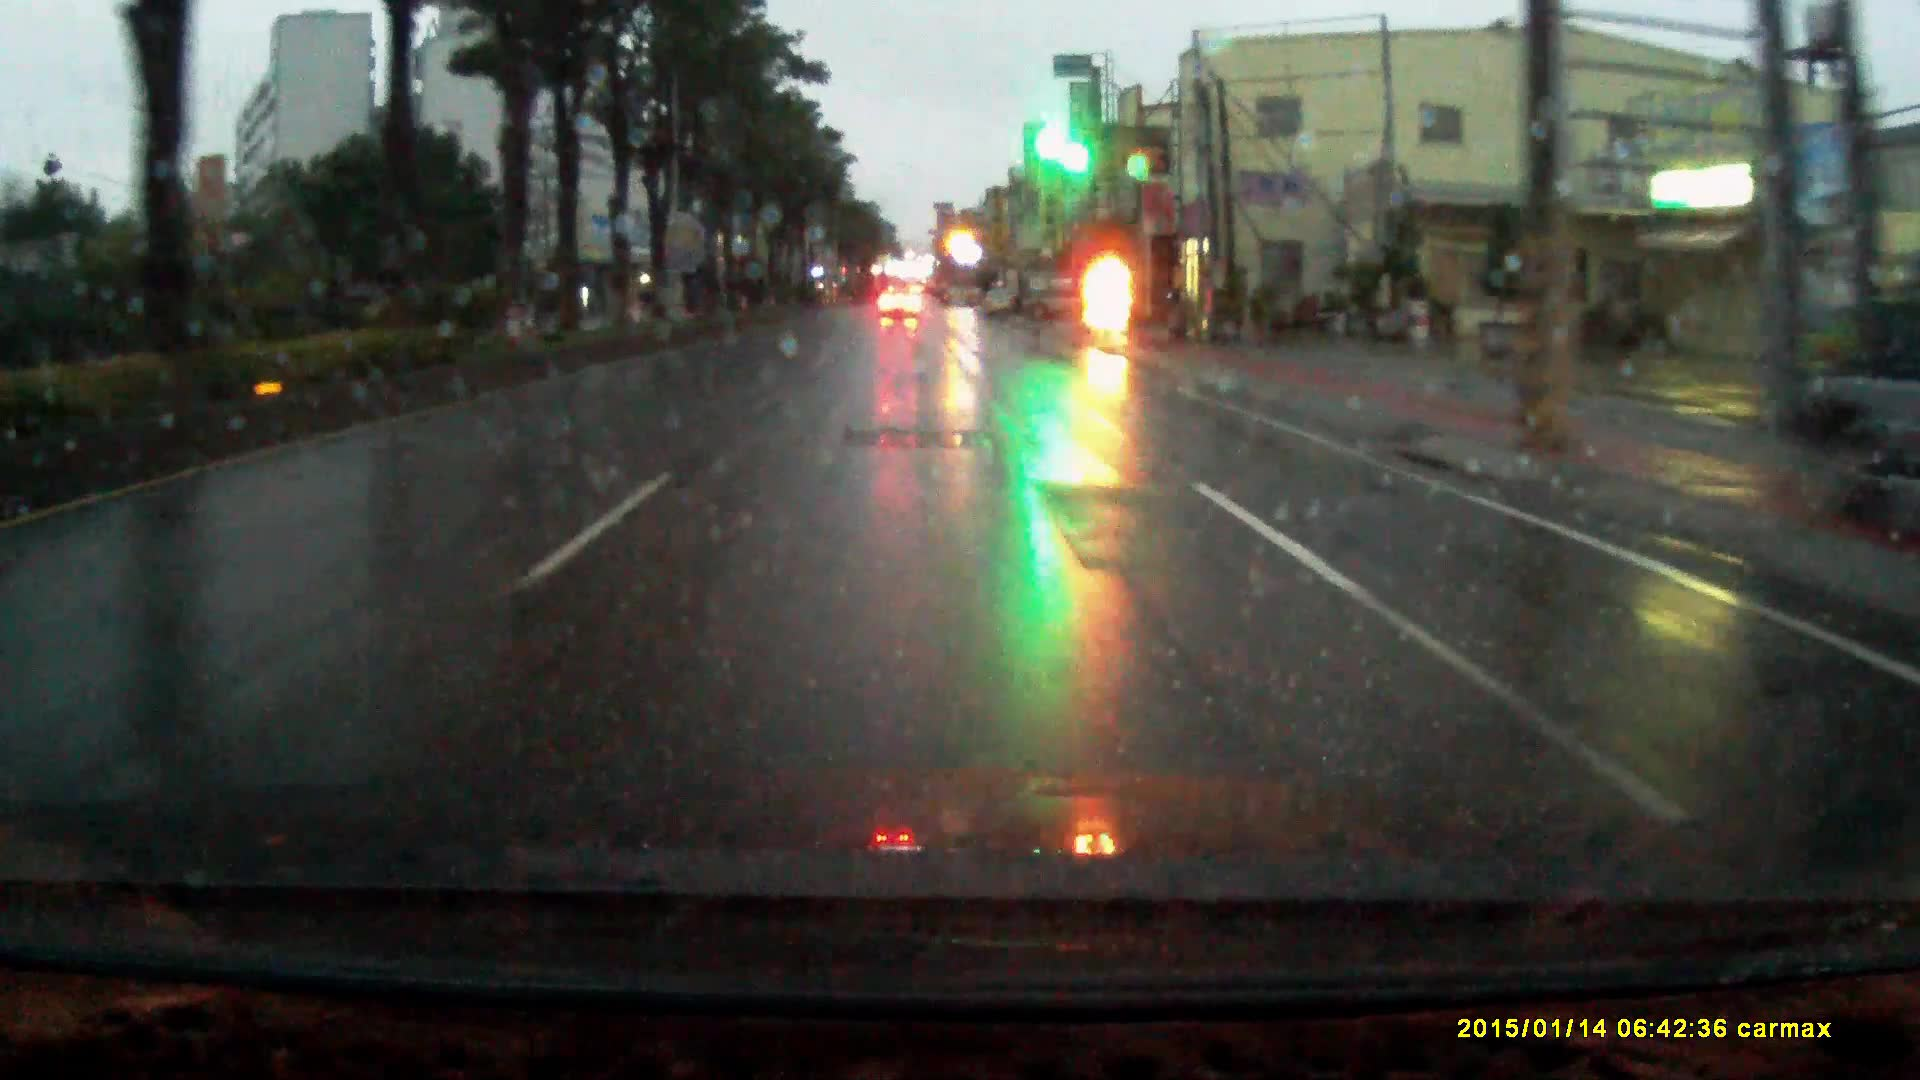vehicle: (1023, 278, 1098, 324), (880, 291, 926, 328)
